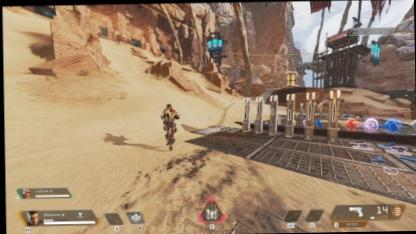Target: (160, 102, 178, 150)
